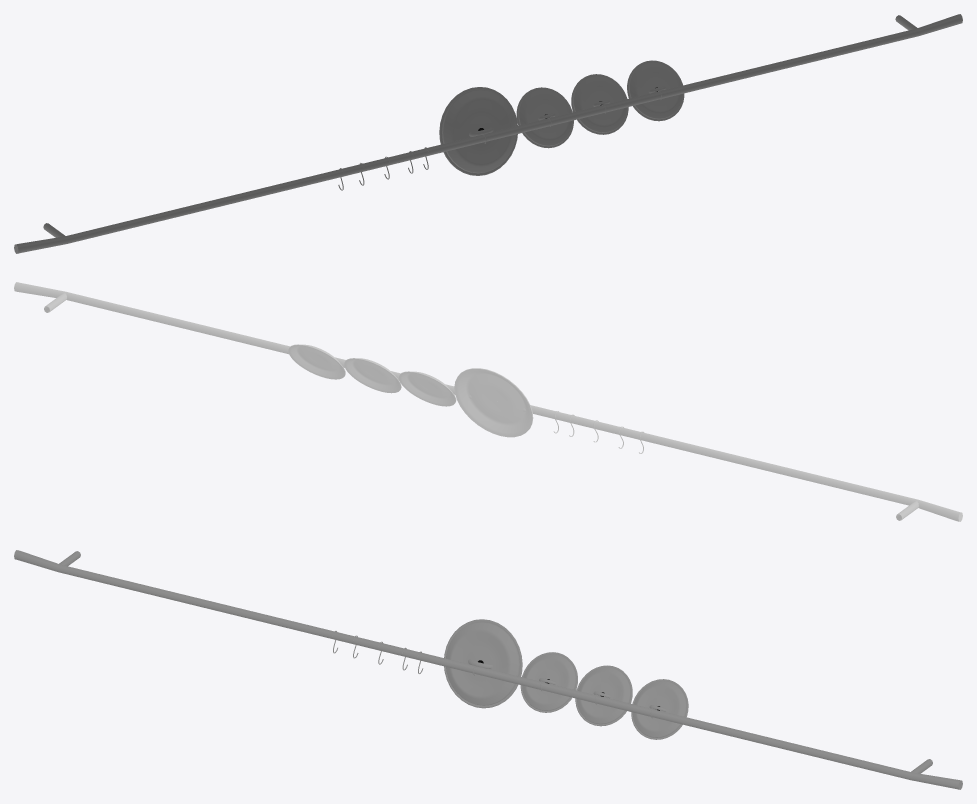
Rendered from HoldingBar_42720968.obj.
3 renders of one model, top to bottom at view 1: azimuth 30°, elevation 25°; view 2: azimuth 150°, elevation 25°; view 3: azimuth 330°, elevation 25°, orthographic.
Parts seen in each view (by area): view 1: HoldingBar_42720968; view 2: HoldingBar_42720968; view 3: HoldingBar_42720968.
Part boxes in pixels (left/top/right/bottom): HoldingBar_42720968: left=14, top=14, right=962, bottom=253; HoldingBar_42720968: left=14, top=282, right=962, bottom=521; HoldingBar_42720968: left=14, top=550, right=962, bottom=789.
Size of the model in its own units: 2.83 by 0.2197 by 0.1196.
